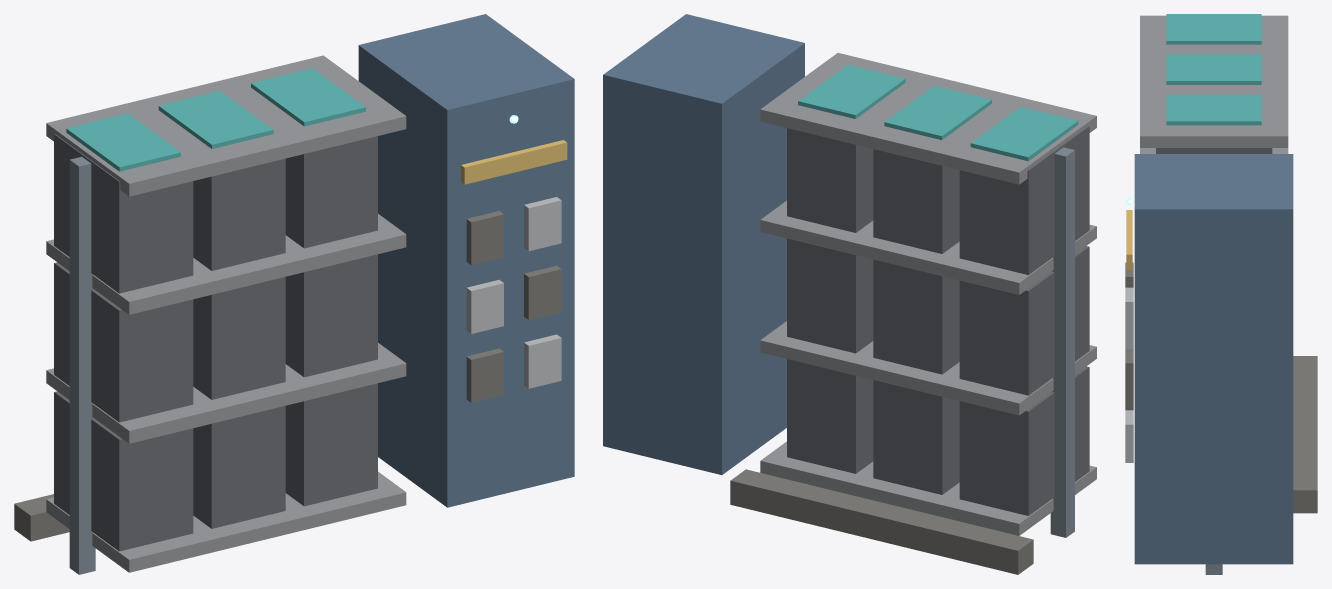
File: power-distribution-lod1.glb
3 renders of one model, left to right at view 1: azimuth 30°, elevation 25°; view 2: azimuth 150°, elevation 25°; view 3: azimuth 270°, elevation 25°, orthographic. The views are drawn at different scales.
Parts seen in each view (by area): view 1: Panel.001, RackTop, Cell.004, Cell.001, Cell.007, Cell.005, Post.001, Cell.002, Cell.003, Cell.006, Cell.008, Cell (+14 smaller); view 2: Panel.001, RackTop, Duct, Cell.004, Cell.001, Cell.007, Cell.002, Cell.005, Cell.003, Cell.006, Post.001, Cell.008 (+7 smaller); view 3: Panel.001, RackTop, Duct, CellCap, CellCap.007, CellCap.008, Cell, Breaker.002, Breaker.004, Breaker, BusBar.
Part boxes in pixels (x1,y1,x2,y2): Panel.001: (358, 14, 574, 507); RackTop: (46, 55, 406, 196); Cell.004: (54, 262, 193, 422); Cell.001: (54, 391, 193, 551); Cell.007: (54, 134, 193, 293); Cell.005: (193, 277, 285, 399); Post.001: (69, 156, 95, 574); Cell.002: (193, 406, 285, 528); Cell.003: (285, 383, 377, 506); Cell.006: (285, 254, 377, 377); Cell.008: (193, 158, 285, 270); Cell: (285, 136, 377, 248); Panel.001: (603, 14, 804, 474); RackTop: (760, 53, 1096, 184); Duct: (730, 469, 1033, 574); Cell.004: (959, 246, 1089, 395); Cell.001: (959, 366, 1089, 515); Cell.007: (959, 126, 1089, 274); Cell.002: (873, 380, 959, 494); Cell.005: (873, 259, 959, 374); Cell.003: (787, 359, 873, 473); Cell.006: (787, 238, 873, 353); Post.001: (1050, 147, 1074, 537); Cell.008: (873, 149, 959, 253); Panel.001: (1134, 154, 1293, 564); RackTop: (1140, 15, 1288, 147); Duct: (1293, 356, 1317, 513); CellCap: (1166, 94, 1261, 125); CellCap.007: (1166, 14, 1261, 44); CellCap.008: (1166, 54, 1261, 84); Cell: (1156, 148, 1272, 153); Breaker.002: (1125, 287, 1133, 340); Breaker.004: (1125, 349, 1133, 401); Breaker: (1125, 410, 1133, 462); BusBar: (1126, 210, 1132, 269).
Size of the model in its own units: 2.23 by 1.95 by 0.91.
